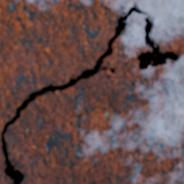brick: (5, 13, 183, 183), (0, 0, 132, 131), (136, 0, 183, 52), (0, 142, 11, 183)
crack: (0, 0, 183, 183)
